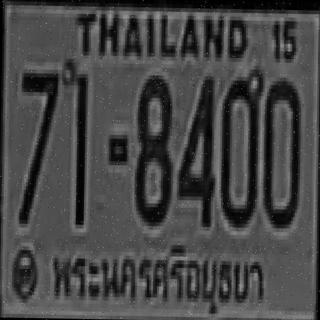N00: (218, 73, 261, 224), (260, 77, 300, 224)
N01: (74, 68, 86, 222)
N04: (176, 72, 215, 223)
N07: (17, 67, 58, 222)
N08: (134, 71, 171, 222)
P03: (46, 239, 276, 320)
